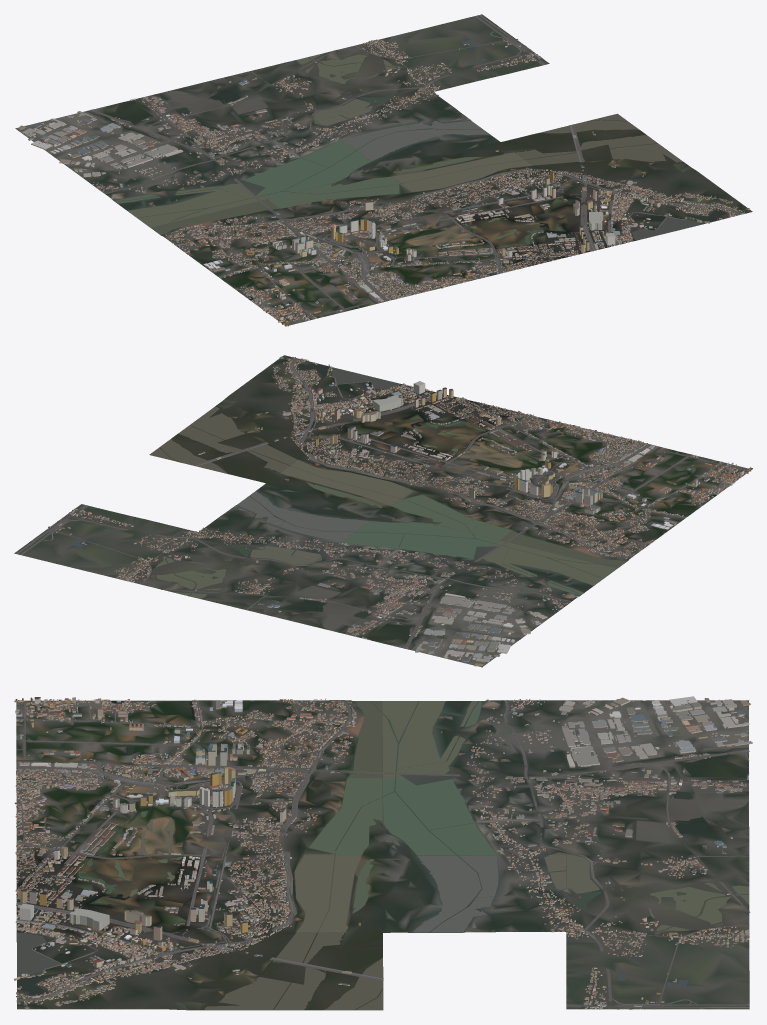
3 renders of one model, top to bottom at view 1: azimuth 30°, elevation 25°; view 2: azimuth 150°, elevation 25°; view 3: azimuth 270°, elevation 25°, orthographic. The views are drawn at different scales.
Parts seen in each view (by area): view 1: ground, buildings, water, roads; view 2: ground, buildings, water, roads; view 3: ground, buildings, water, roads.
Part boxes in pixels (x1,y1,x2,y2): ground: (15, 14, 752, 325); buildings: (17, 39, 749, 326); water: (89, 39, 726, 300); roads: (90, 14, 740, 323); ground: (14, 355, 751, 667); buildings: (48, 356, 752, 666); water: (71, 364, 716, 636); roads: (16, 358, 749, 667); ground: (16, 700, 749, 1010); buildings: (14, 696, 752, 1009); water: (17, 700, 749, 1009); roads: (16, 700, 750, 1009).
Bounding box in the file's own units: 5660 × 142 × 5656.
